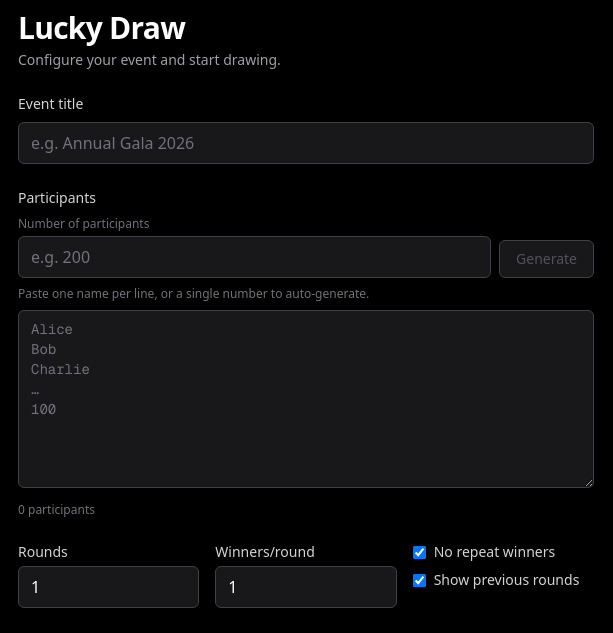
Test case: SetupPage › auto-generates from a single number
The image size is (613, 633).
Type "10" into the text box labelled "Participants". click: (306, 399)
box: top-left (18, 310), bottom-right (594, 488)
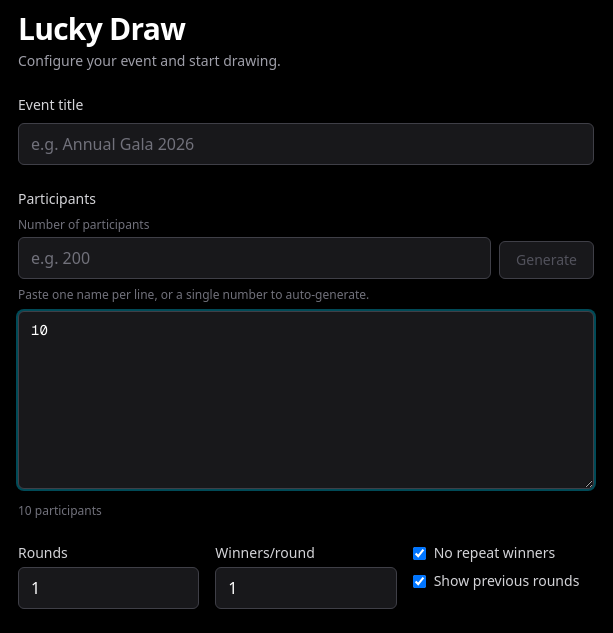
Expected: the text with test id "participant-count" shows "10", top-left (18, 502), bottom-right (32, 519)
